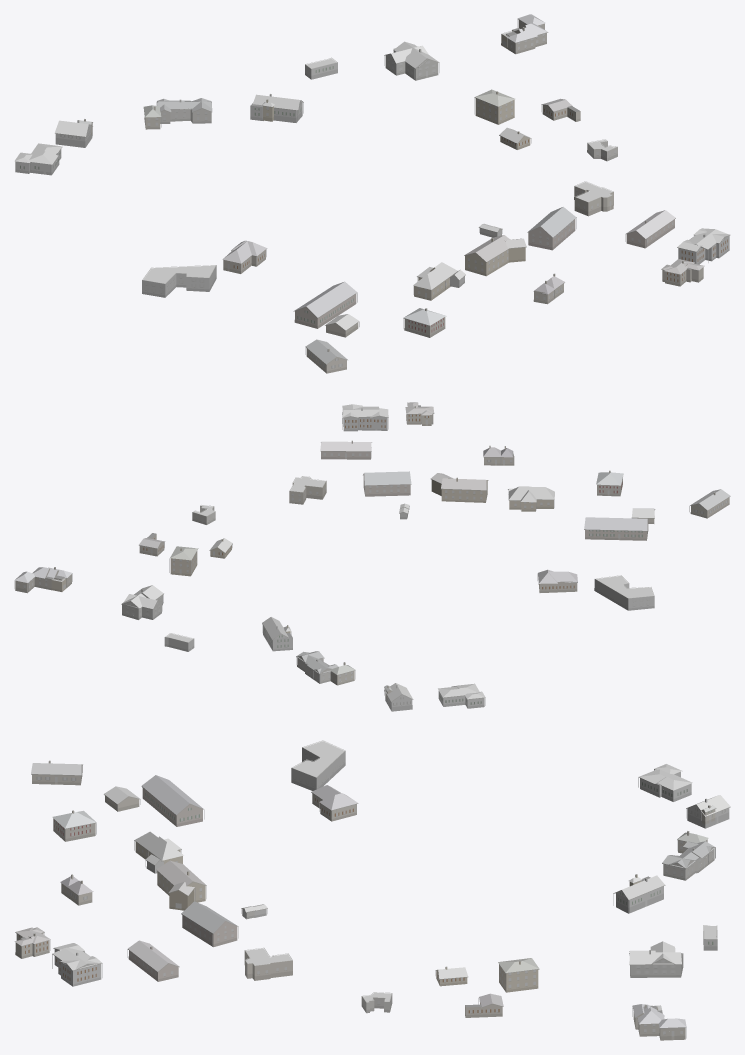
3 views of the same model, one above another, from view 1: azimuth 30°, elevation 25°; view 2: azimuth 150°, elevation 25°; view 3: azimuth 270°, elevation 25° (orthographic). The views are drawn at different scales.
Visible parts, largest first — view 1: bld; view 2: bld; view 3: bld.
Boxes of the visible parts, x1=… form: bld: x1=14, y1=14, x2=730, y2=373; bld: x1=14, y1=402, x2=730, y2=711; bld: x1=14, y1=740, x2=730, y2=1040.
Bounding box in the file's own units: 258 × 17.51 × 266.
